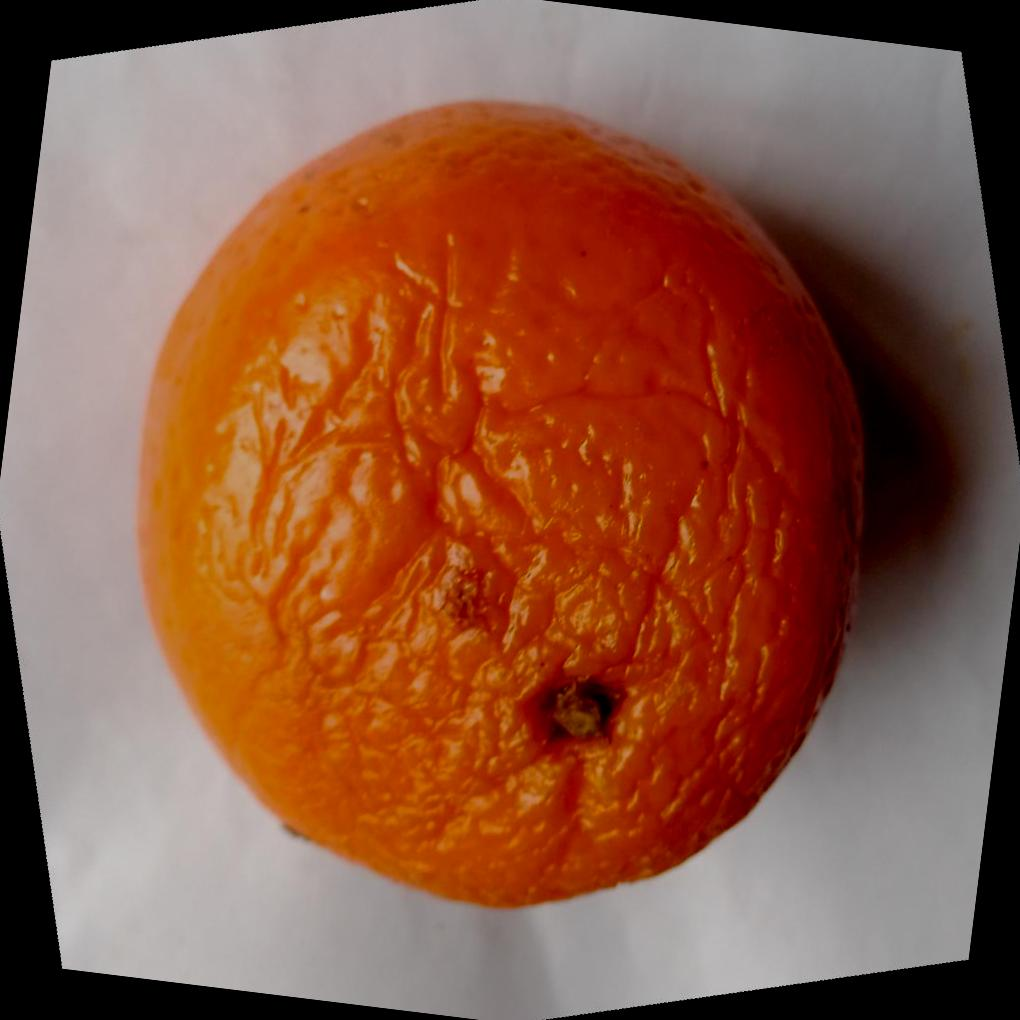FreshOrange: (131, 101, 866, 916)
